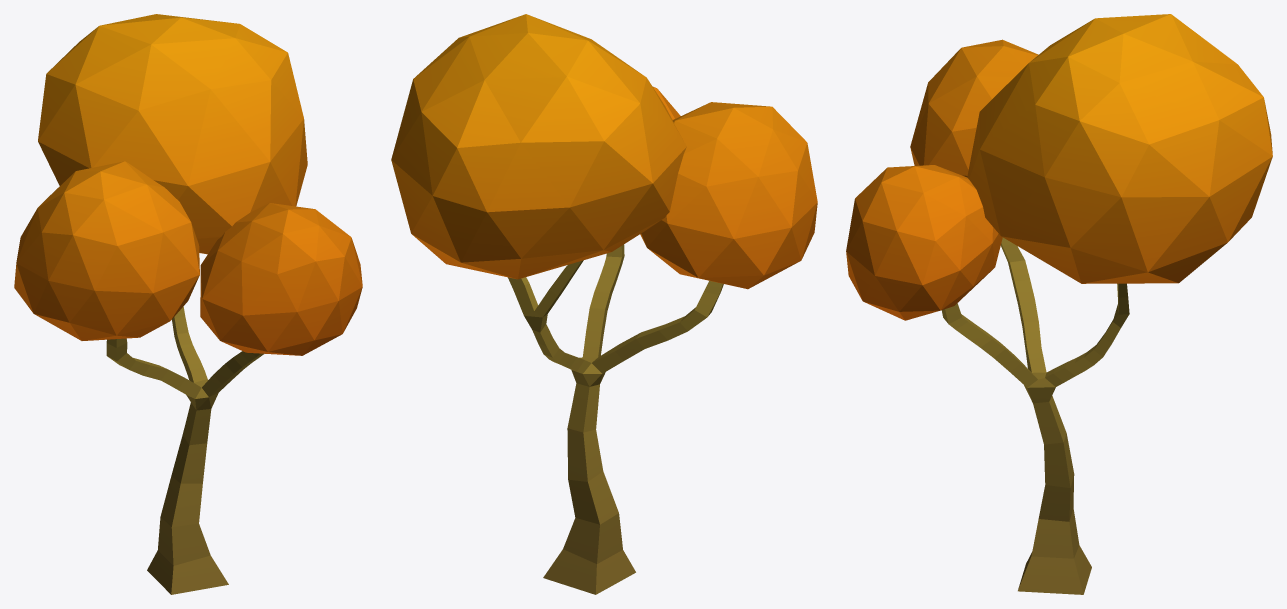
The model's file is tree_4.fbx.
The picture shows the model from 3 angles, left to right: view 1: azimuth 30°, elevation 25°; view 2: azimuth 150°, elevation 25°; view 3: azimuth 270°, elevation 25°; orthographic projection. The views are drawn at different scales.
Visible parts, largest first — view 1: tree_4; view 2: tree_4; view 3: tree_4.
Part boxes in pixels (x1,y1,x2,y2): tree_4: (14, 14, 362, 594); tree_4: (391, 14, 817, 594); tree_4: (846, 14, 1272, 594).
Bounding box in the file's own units: 4.34 × 6.85 × 4.74.
